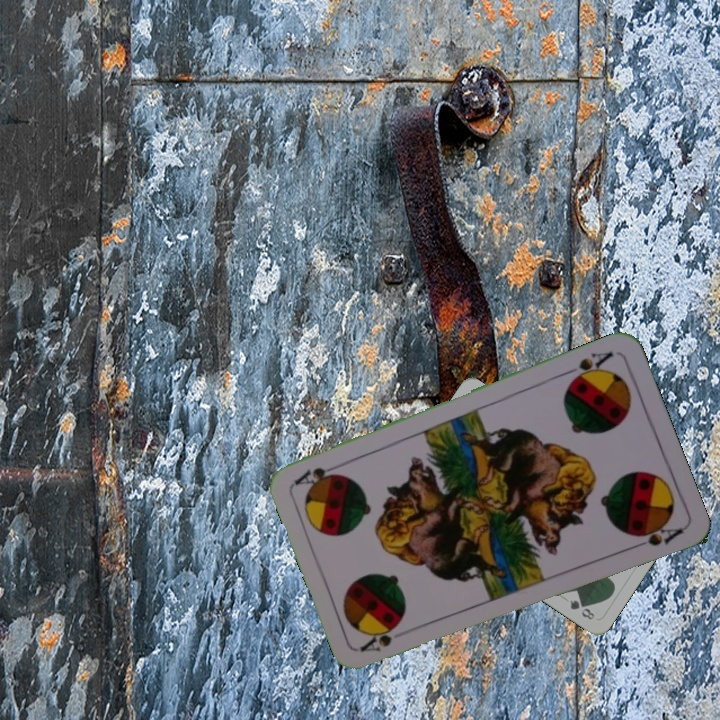SA: (561, 347, 615, 386), (357, 626, 395, 655)
